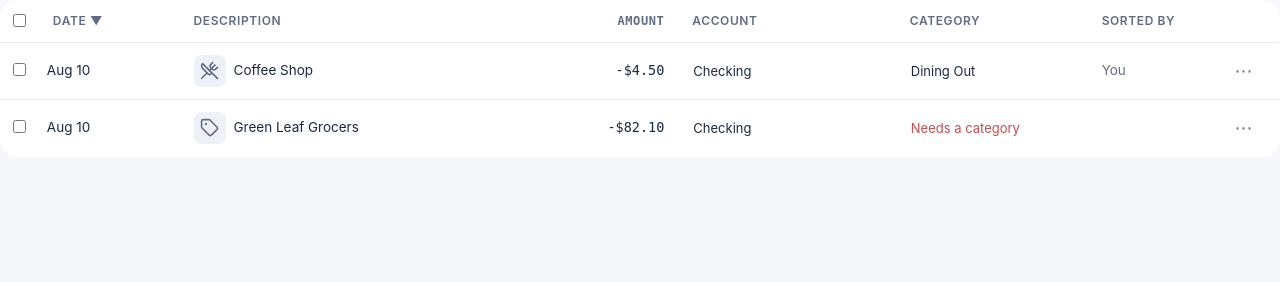
Test: TransactionsTable › gives focus back to the row's ⋯ when the tag field closes on Enter or Escape
This screenshot has width=1280, height=282.
Click the button "⋯" in the row of "Coffee Shop" at (1244,71), box [1230,57,1258,85]
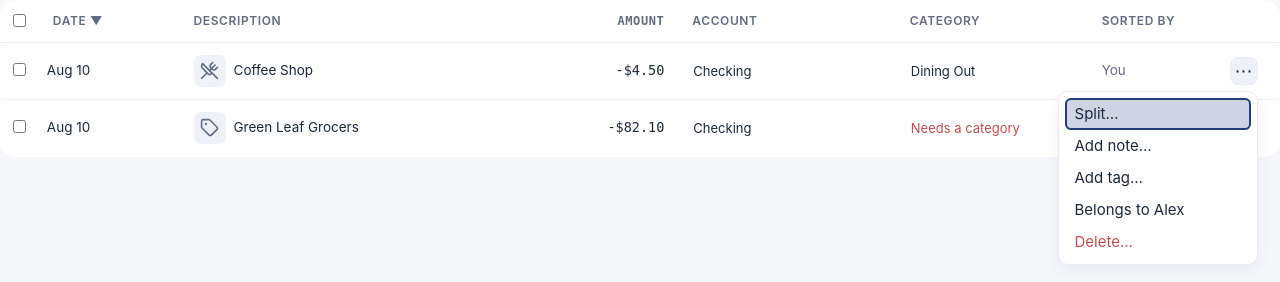
Click the menu item "Add tag…" at (1158,178), box [1064,162,1250,194]
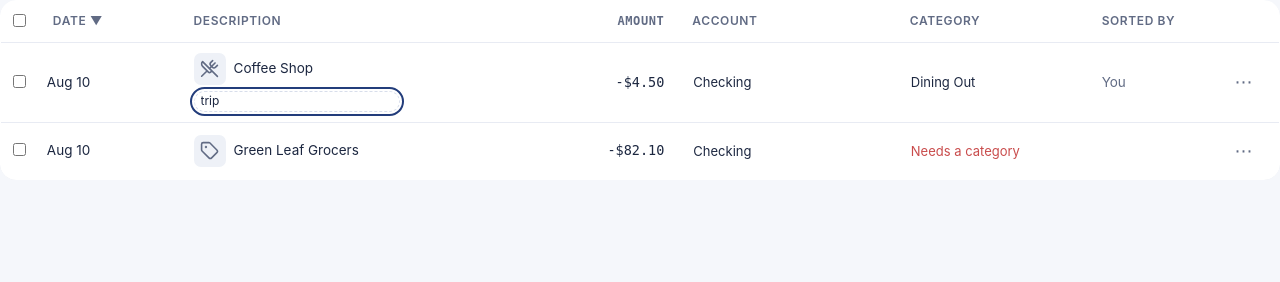
Press Enter in the dropdown with class "tag-input", box [194,91,400,112]
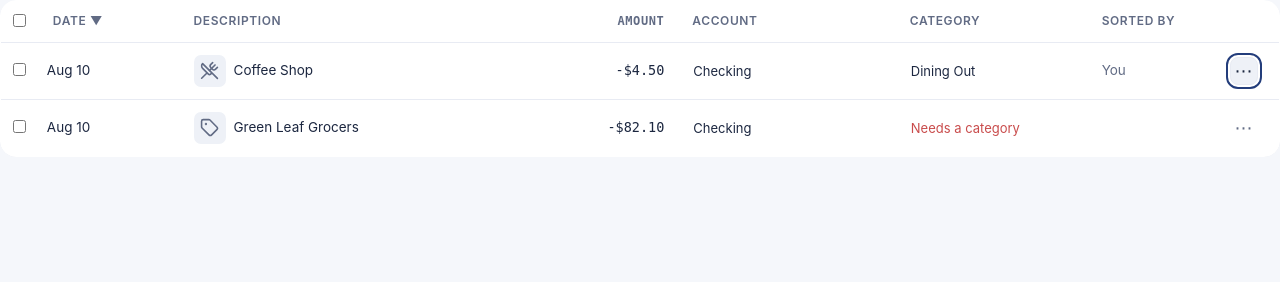
Now the dropdown with class "tag-input" is gone
Click the button "⋯" in the row of "Coffee Shop" at (1244,71), box [1230,57,1258,85]
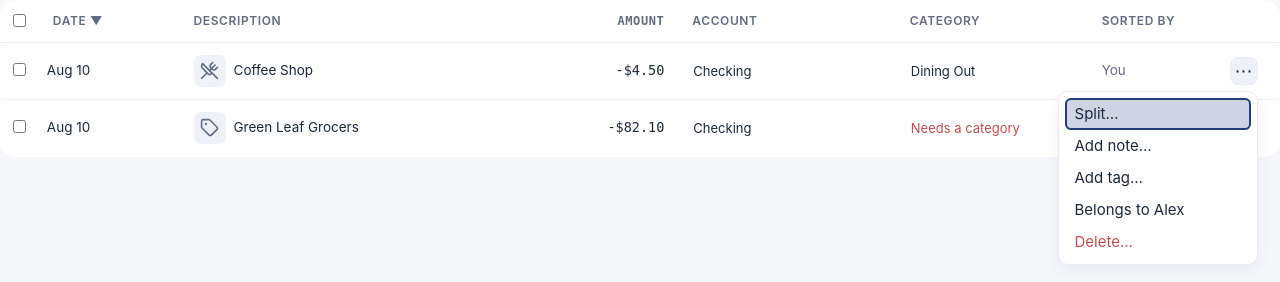
Click the menu item "Add tag…" at (1158,178), box [1064,162,1250,194]
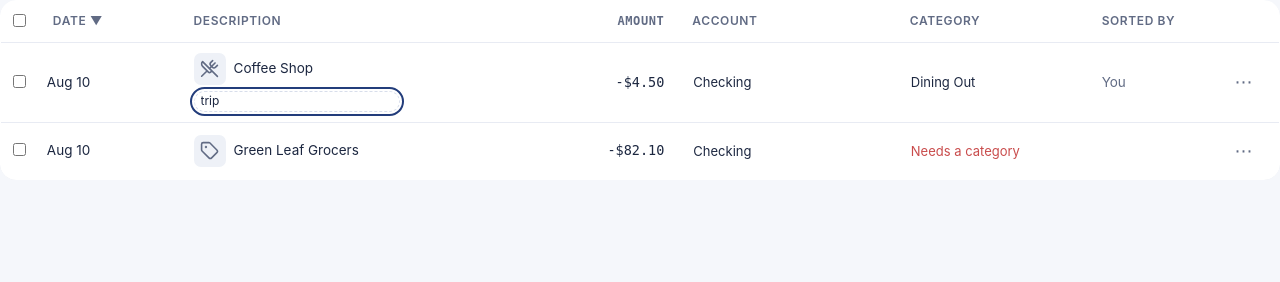
Press Escape in the dropdown with class "tag-input", box [194,91,400,112]
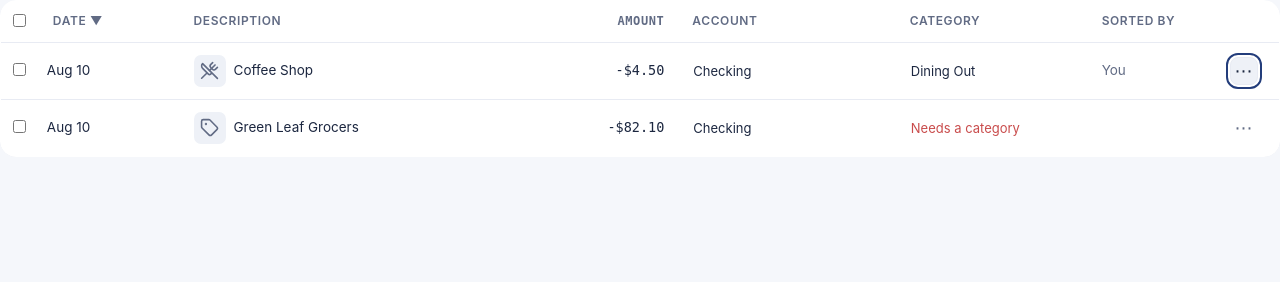
Now the dropdown with class "tag-input" is gone
